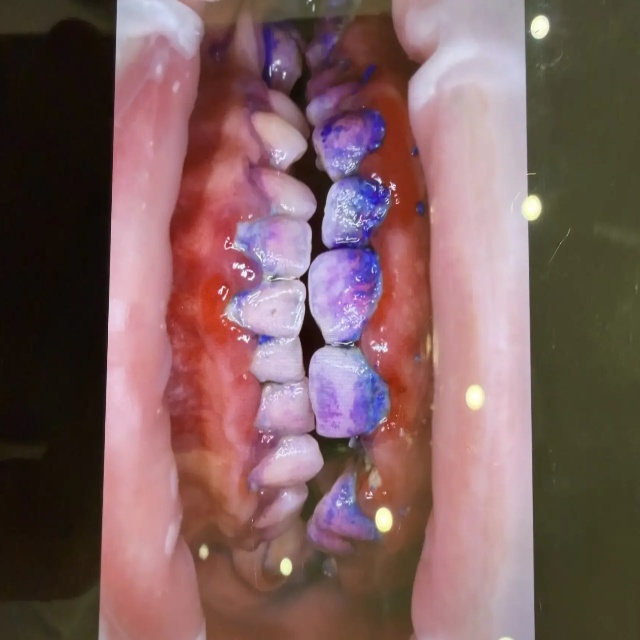plaque: (311, 77, 389, 342), (257, 354, 385, 447), (236, 170, 284, 308), (308, 478, 376, 544), (253, 22, 295, 81), (306, 30, 336, 68)
